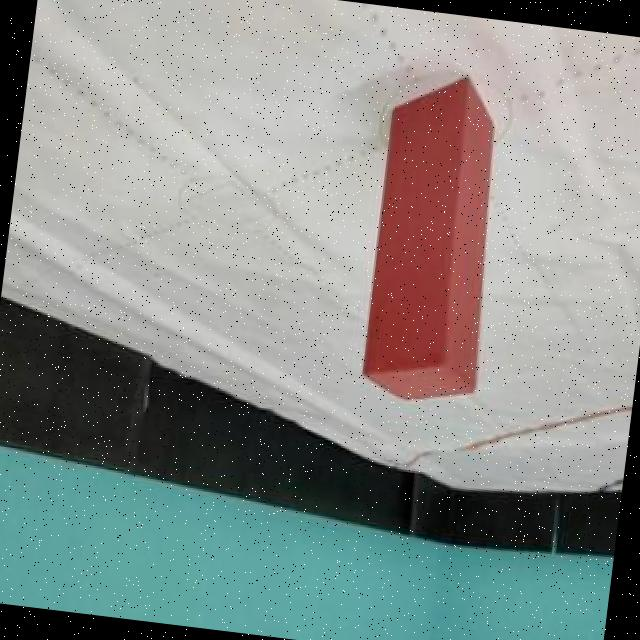redbox: (358, 66, 512, 411)
